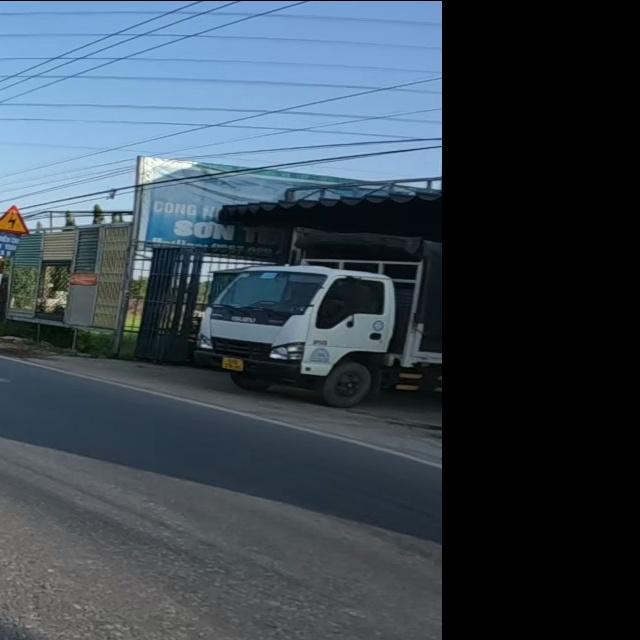license-plate: (222, 357, 244, 372)
